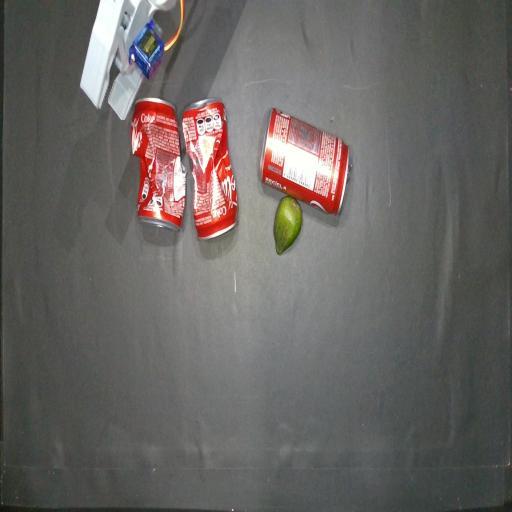higo: (274, 196, 302, 254)
lata: (259, 108, 351, 214)
lata_defectuoso: (182, 99, 238, 239), (131, 98, 186, 229)
